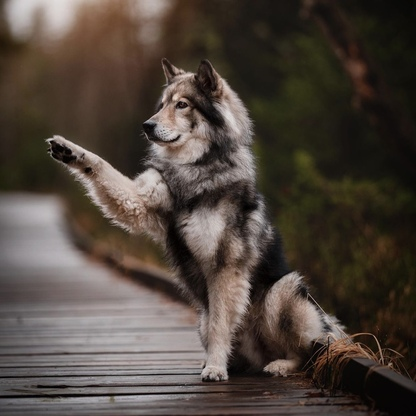husky: (42, 54, 355, 385)
